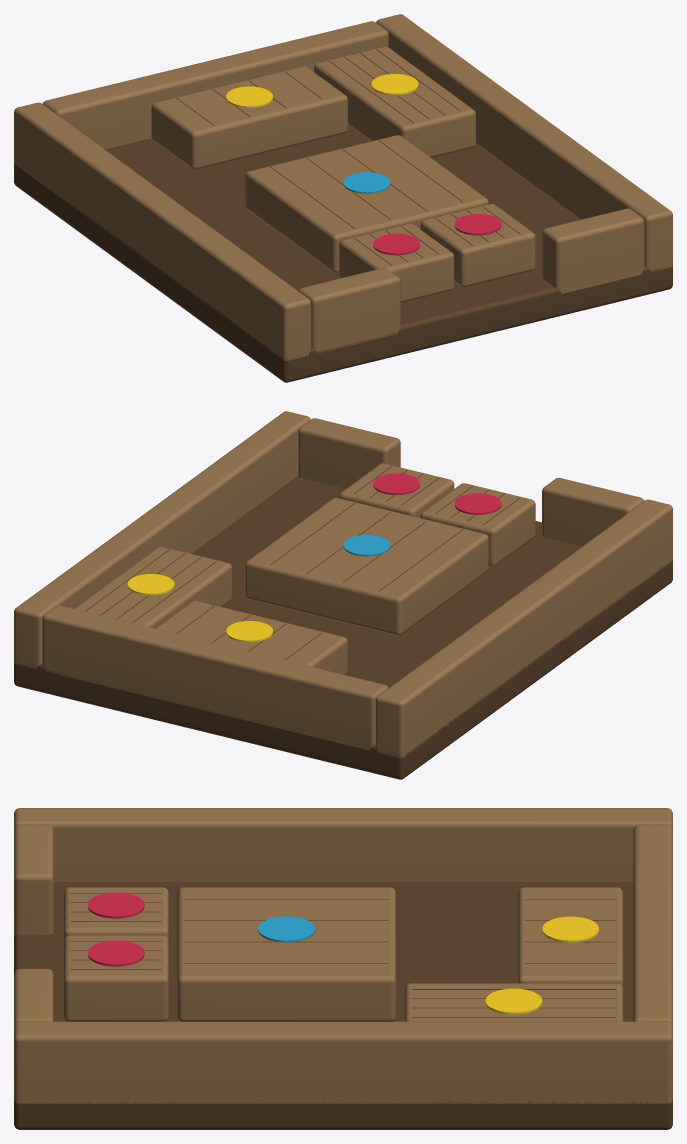
The model's file is photo-cupboard-easy-five-c01.glb.
The picture shows the model from 3 angles, top to bottom: view 1: azimuth 30°, elevation 25°; view 2: azimuth 150°, elevation 25°; view 3: azimuth 270°, elevation 25°; orthographic projection. The views are drawn at different scales.
Visible parts, largest first — view 1: tray, frame_left, blue_wood, frame_right, yellow5_wood, frame_top, yellow2_wood, exit_edge.001, exit_edge, red4_wood, red3_wood, red4_paint (+4 smaller); view 2: tray, frame_top, frame_left, blue_wood, frame_right, yellow2_wood, yellow5_wood, exit_edge.001, exit_edge, red3_wood, red4_wood, yellow2_paint (+4 smaller); view 3: frame_right, frame_left, tray, blue_wood, yellow5_wood, red4_wood, frame_top, yellow2_wood, exit_edge, red3_wood, exit_edge.001, blue_paint (+4 smaller).
Part boxes in pixels (x1,y1,x2,y2): tray: (14, 124, 672, 382); frame_left: (14, 102, 311, 360); blue_wood: (245, 135, 488, 272); frame_right: (376, 14, 672, 271); yellow5_wood: (151, 66, 347, 169); frame_top: (43, 21, 388, 149); yellow2_wood: (314, 46, 475, 157); exit_edge.001: (542, 208, 644, 293); exit_edge: (298, 268, 400, 353); red4_wood: (420, 204, 535, 287); red3_wood: (339, 223, 454, 302); red4_paint: (454, 214, 501, 235); tray: (14, 476, 672, 779); frame_top: (42, 605, 388, 750); frame_left: (375, 499, 672, 757); blue_wood: (245, 497, 488, 635); frame_right: (14, 411, 310, 669); yellow2_wood: (74, 546, 232, 628); yellow5_wood: (155, 601, 347, 674); exit_edge.001: (298, 418, 400, 488); exit_edge: (542, 477, 643, 546); red3_wood: (420, 483, 535, 566); red4_wood: (339, 463, 454, 517); yellow2_paint: (127, 574, 174, 595); frame_right: (14, 1021, 672, 1103); frame_left: (14, 808, 672, 881); tray: (14, 882, 672, 1129); blue_wood: (177, 887, 395, 1021); yellow5_wood: (518, 887, 623, 988); red4_wood: (63, 935, 168, 1021); frame_top: (633, 824, 672, 1026); yellow2_wood: (404, 983, 623, 1021); exit_edge: (14, 824, 53, 936); red3_wood: (63, 887, 168, 940); exit_edge.001: (14, 969, 53, 1026); blue_paint: (258, 916, 314, 942).
Bounding box in the file's own units: 0.192 × 0.037 × 0.232.
